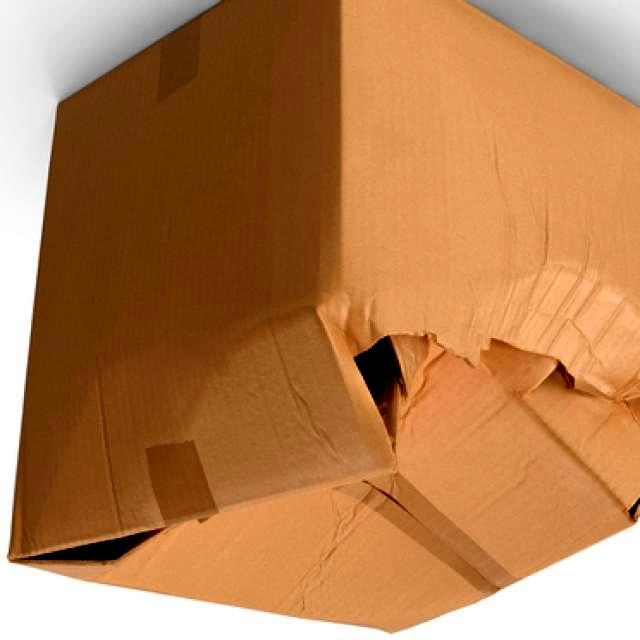Defect: (5, 6, 638, 640)
deform: (48, 356, 639, 631), (146, 308, 393, 510), (549, 275, 639, 396), (356, 338, 404, 446), (482, 341, 558, 395)
